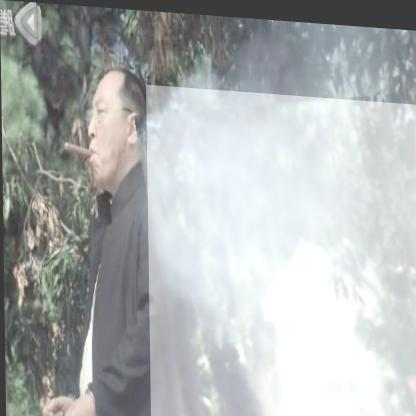smoke: (146, 82, 416, 416)
